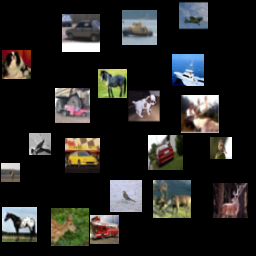airplane: (179, 1, 208, 30), (29, 133, 51, 155)
automobile: (62, 14, 100, 52), (65, 138, 100, 173), (148, 135, 183, 170)
bird: (110, 180, 142, 212), (210, 137, 232, 159)
deer: (153, 180, 191, 218), (51, 208, 89, 246), (181, 95, 219, 133), (213, 183, 248, 218), (1, 163, 20, 182)
dog: (128, 90, 160, 122), (2, 50, 31, 79)
ship: (122, 10, 157, 45), (172, 54, 204, 86)
